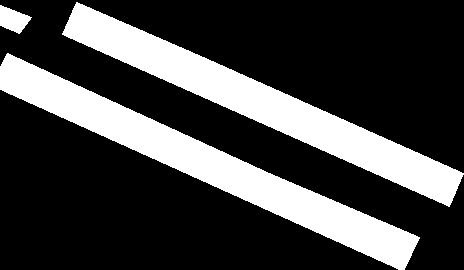parkingspot: (0, 53, 419, 270), (62, 2, 463, 206), (0, 5, 31, 33)
